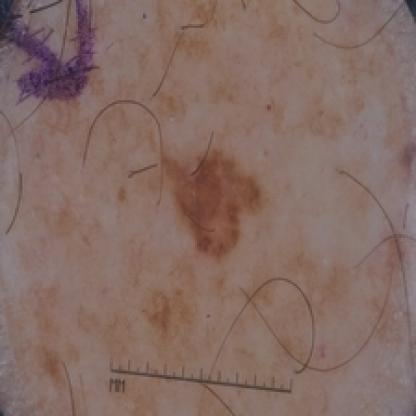Skin_Cancer-Malignant: (168, 138, 262, 262)
